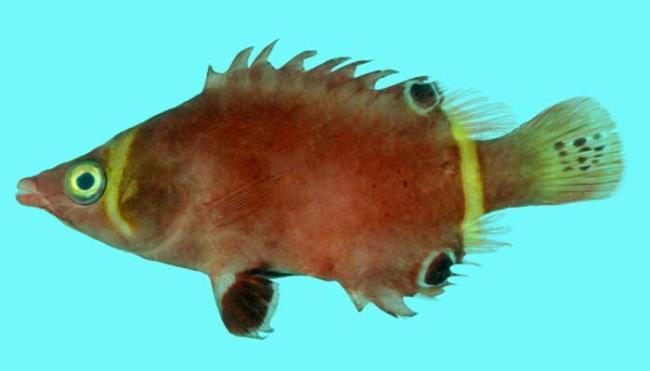fish: (16, 37, 627, 340)
